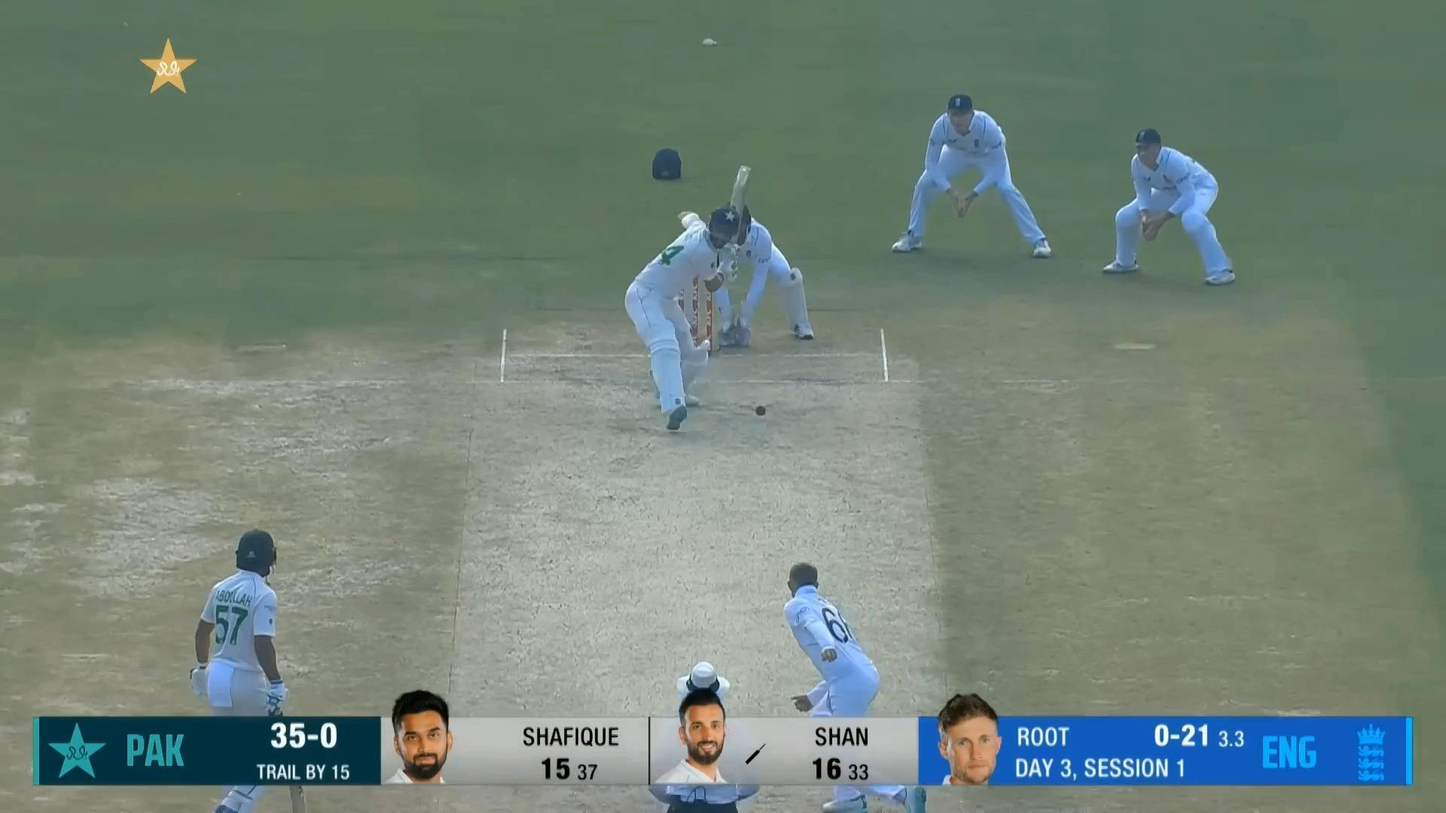BM 1: (624, 165, 752, 431)
BO: (783, 561, 927, 813)
